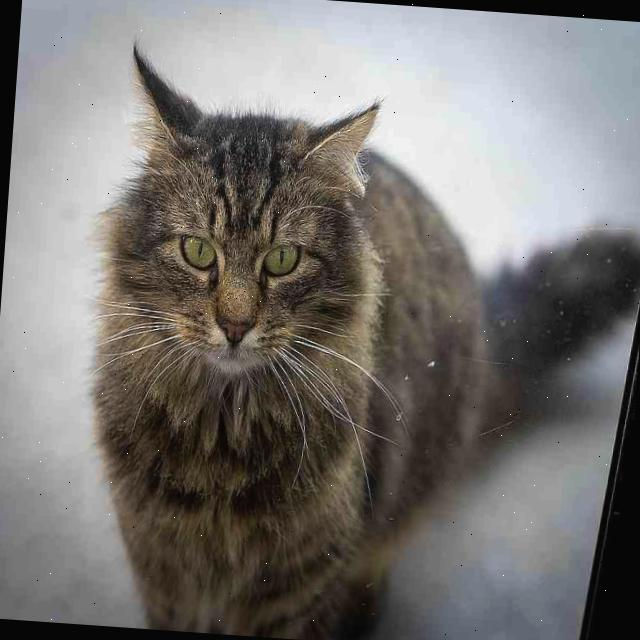domestic_long_hair_cat: (66, 23, 400, 463)
